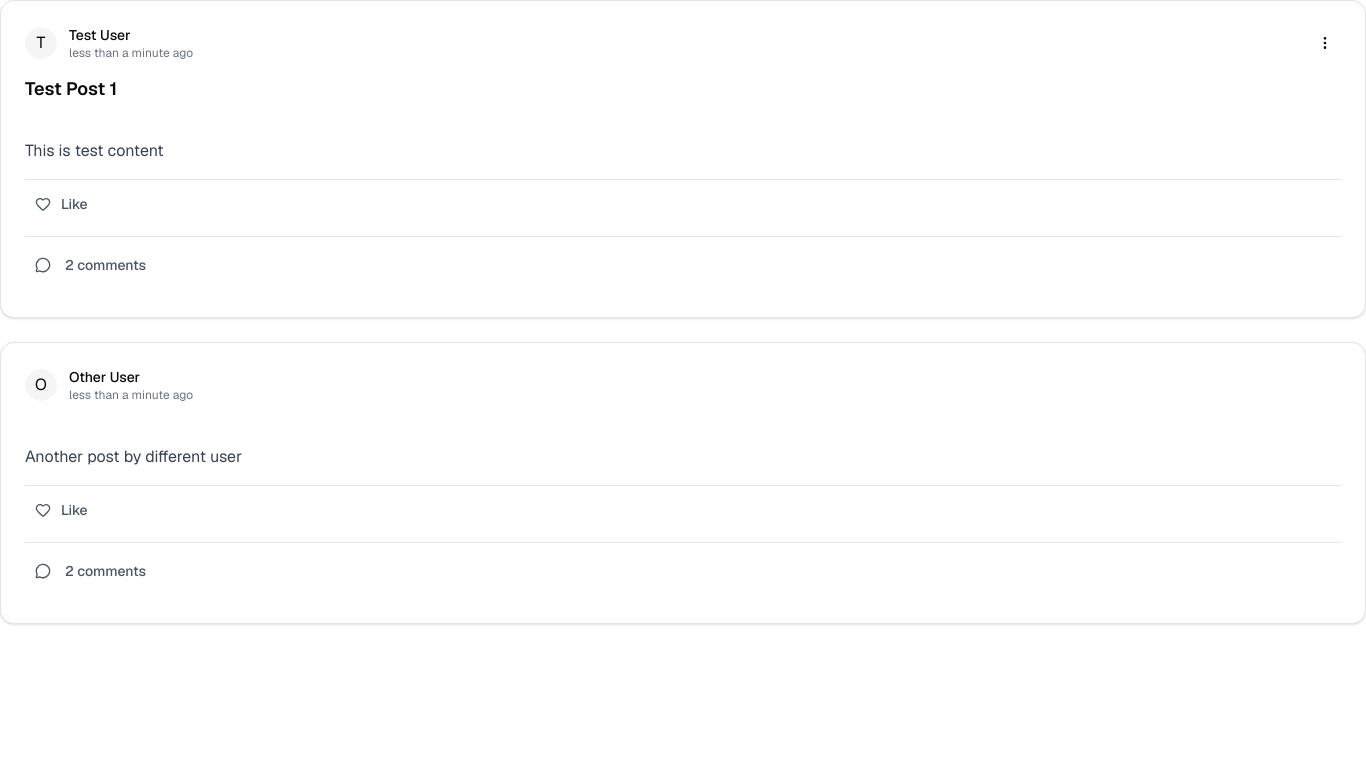
Test: PostFeed › Post Management Dropdown › opens edit dialog when Edit Post is clicked
This screenshot has width=1366, height=768.
Click the 1st button.
click(1325, 43)  # box [1309, 27, 1341, 59]
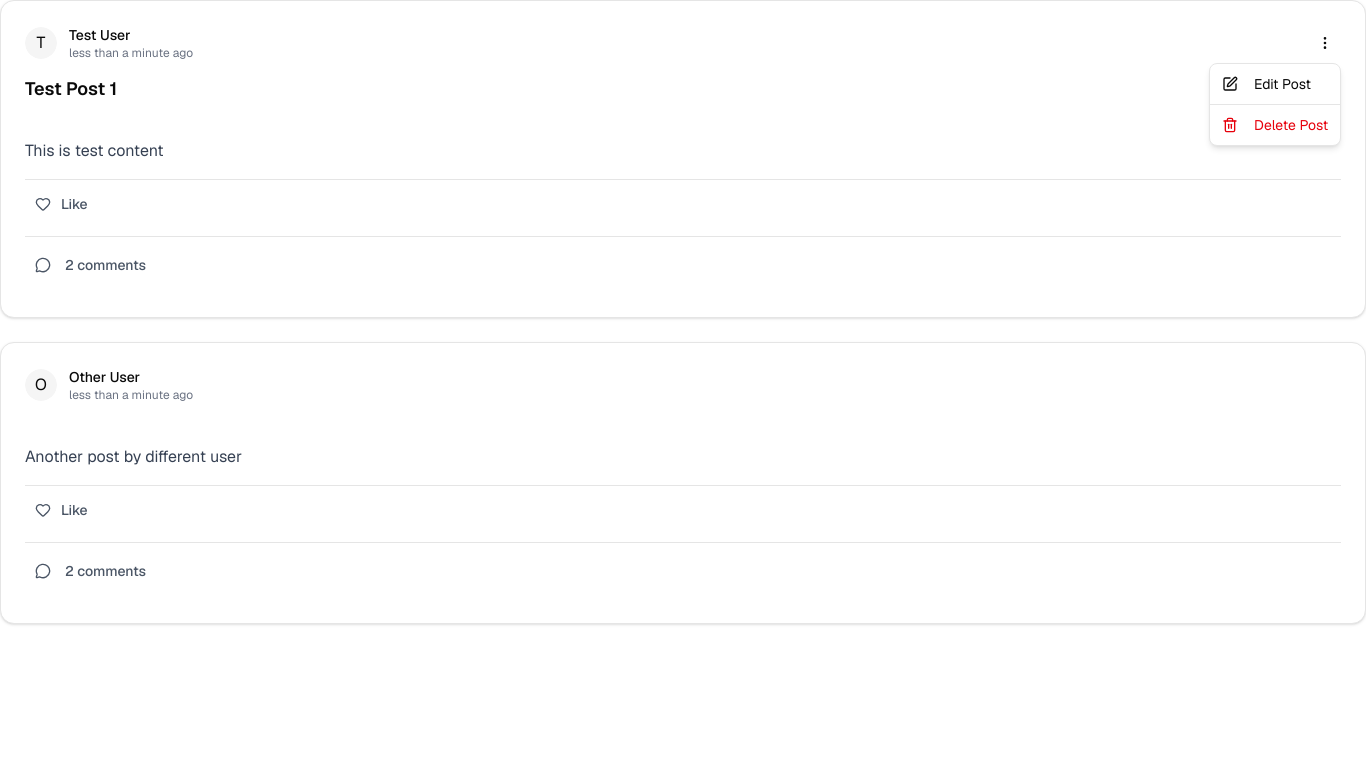
Click Edit Post
Click the menu item "Edit Post".
click(1266, 84)  # box [1222, 75, 1311, 93]
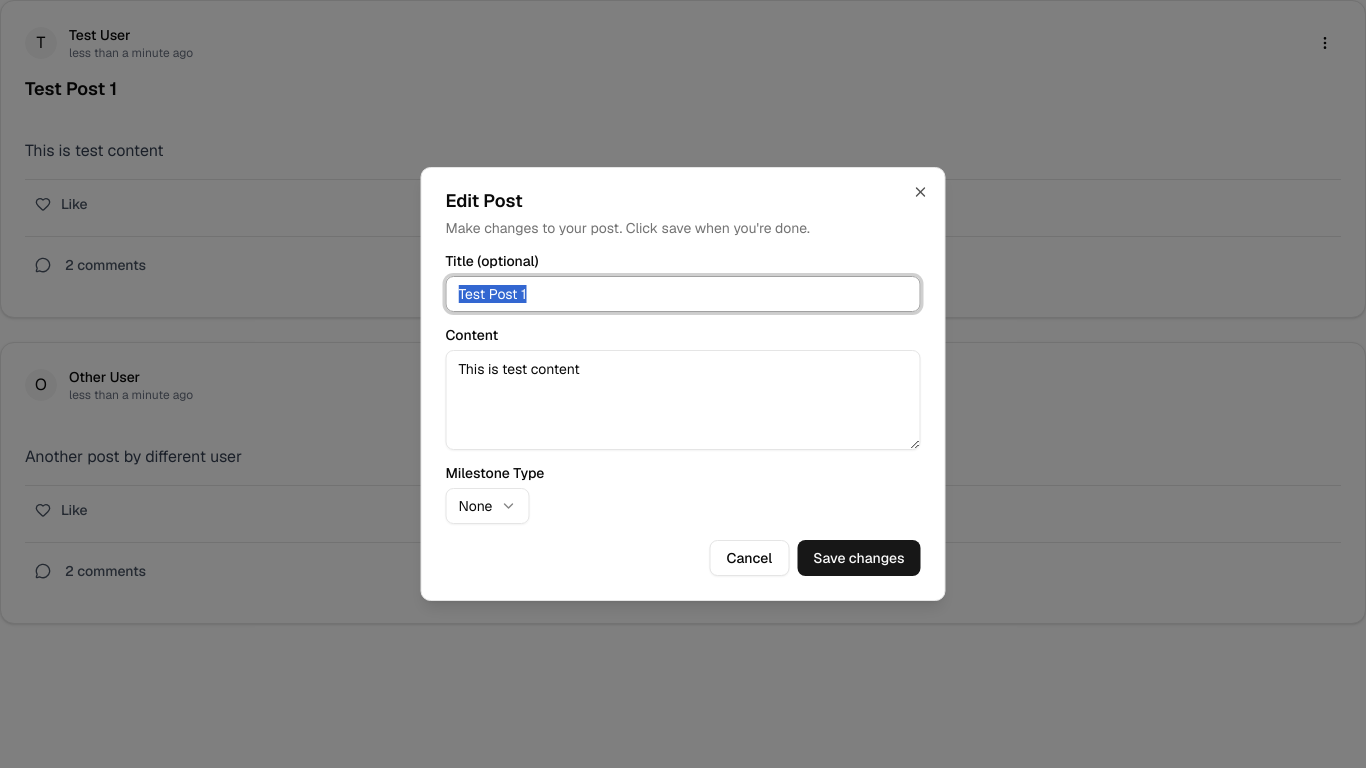
Expected: the heading "Edit Post" is shown, [446, 189, 523, 212]
Expected: the dialog is shown, [420, 167, 946, 601]
Expected: the field showing "Test Post 1" is shown, [446, 276, 920, 312]
